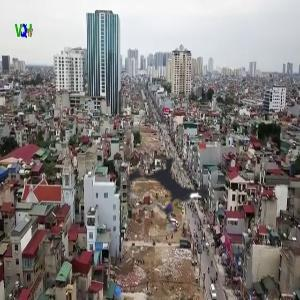drone: (97, 120, 244, 267)
